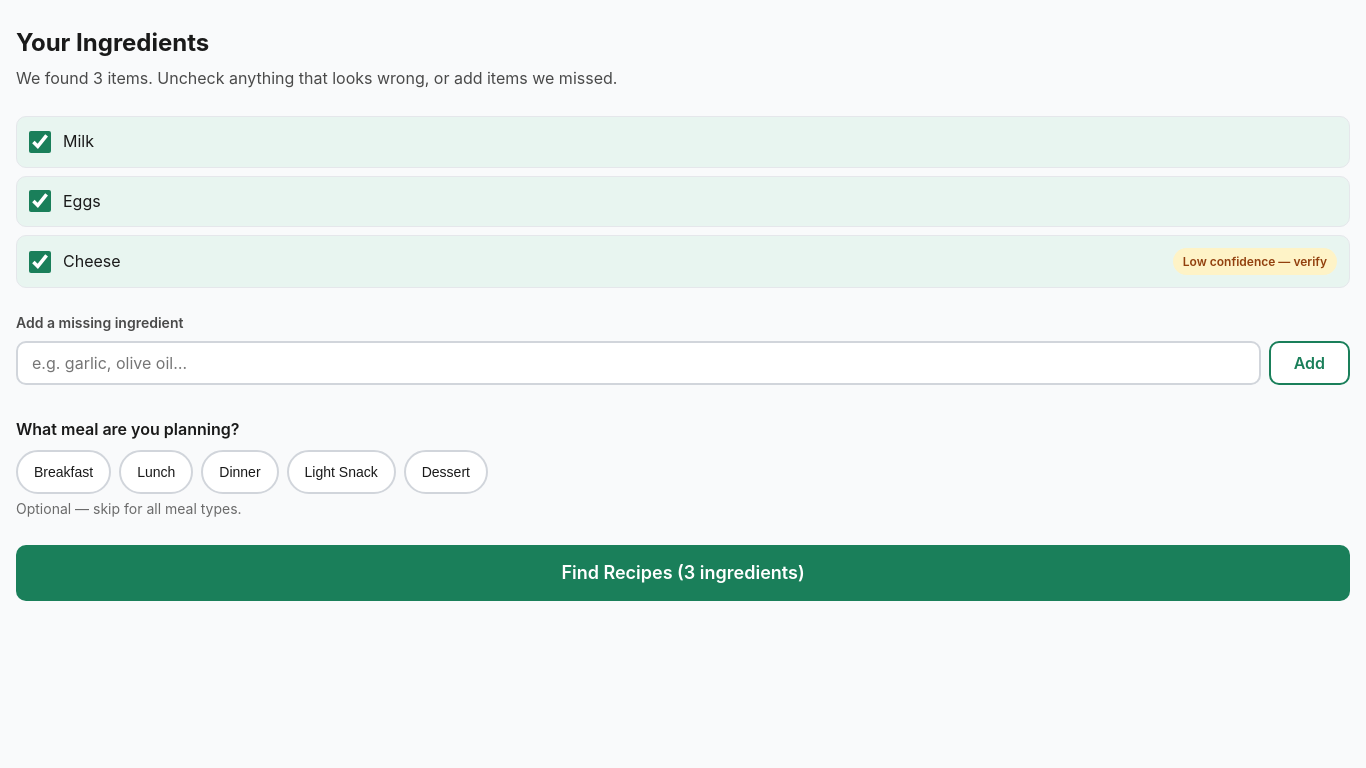
Test: IngredientReview › unchecking an ingredient removes it from the selection count
This screenshot has width=1366, height=768.
expect the button "Find Recipes (3 ingredients)" is shown: met, box [16,545,1350,601]
// Uncheck Milk
Click the checkbox labelled "Milk": (40, 142) [29,131,51,153]
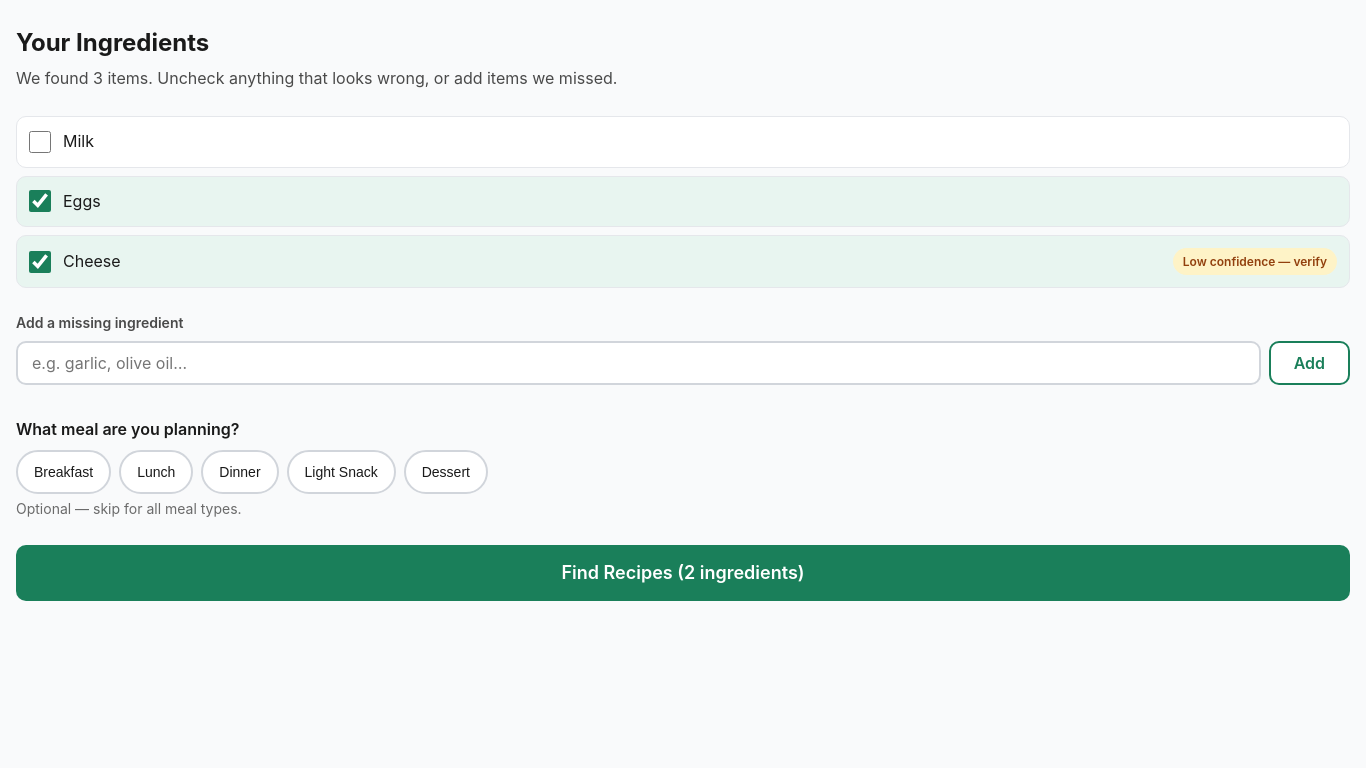
expect the button "Find Recipes (2 ingredients)" is shown: met, box [16,545,1350,601]
